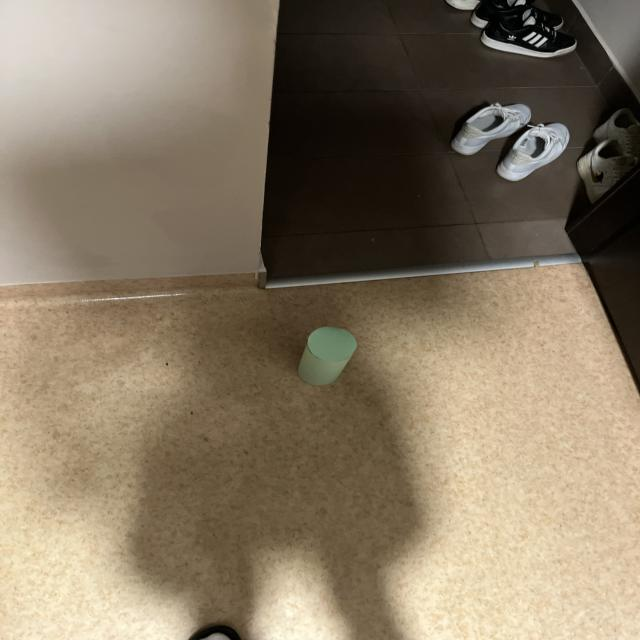meta: (298, 327, 357, 385)
